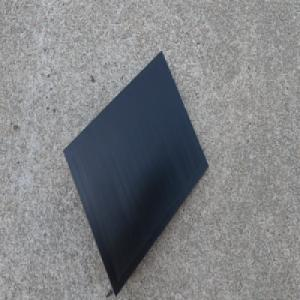PlasticPart: (61, 50, 210, 296)
